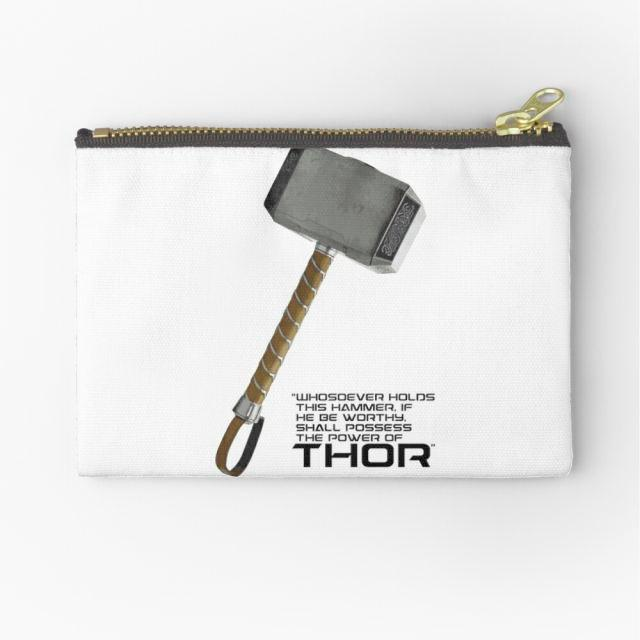hammer: (212, 136, 430, 479)
